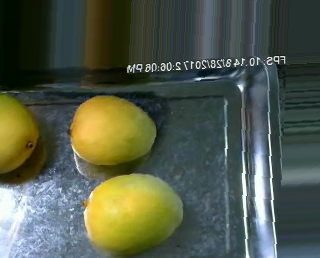Mango: (76, 172, 191, 245), (66, 97, 163, 171), (0, 96, 46, 172)
